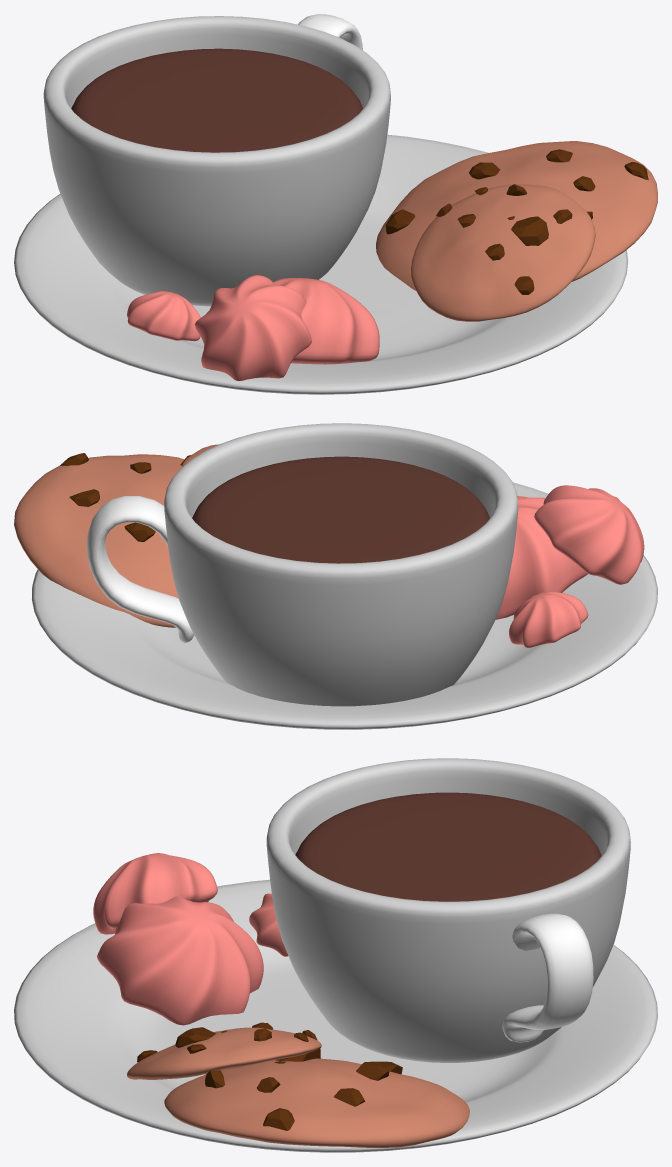
Rendered from coffe.glb.
3 views of the same model, one above another, from view 1: azimuth 30°, elevation 25°; view 2: azimuth 150°, elevation 25°; view 3: azimuth 270°, elevation 25° (orthographic). The views are drawn at different scales.
Parts seen in each view (by area): view 1: Circle, Circle.005, Circle.002, Circle.007, Circle.003, Circle.006, Circle.004, Circle.008, Circle.001, Cube.014; view 2: Circle, Circle.005, Circle.002, Circle.003, Circle.006, Circle.001, Circle.004, Circle.008; view 3: Circle, Circle.005, Circle.002, Circle.003, Circle.004, Circle.001, Circle.006, Circle.007, Circle.008.
Part boxes in pixels (left/top/right/bottom): Circle: left=43, top=16, right=390, bottom=306; Circle.005: left=14, top=134, right=628, bottom=394; Circle.002: left=71, top=48, right=362, bottom=152; Circle.007: left=411, top=184, right=595, bottom=321; Circle.003: left=376, top=141, right=657, bottom=290; Circle.006: left=194, top=275, right=311, bottom=380; Circle.004: left=273, top=278, right=379, bottom=364; Circle.008: left=127, top=291, right=200, bottom=341; Circle.001: left=298, top=14, right=362, bottom=50; Cube.014: left=511, top=216, right=548, bottom=245; Circle: left=164, top=423, right=518, bottom=706; Circle.005: left=32, top=482, right=657, bottom=729; Circle.002: left=192, top=456, right=489, bottom=563; Circle.003: left=14, top=454, right=184, bottom=627; Circle.006: left=534, top=485, right=644, bottom=584; Circle.001: left=86, top=496, right=194, bottom=642; Circle.004: left=495, top=496, right=587, bottom=619; Circle.008: left=509, top=592, right=588, bottom=647; Circle: left=266, top=758, right=630, bottom=1062; Circle.005: left=14, top=879, right=657, bottom=1152; Circle.002: left=295, top=792, right=601, bottom=901; Circle.003: left=164, top=1058, right=469, bottom=1147; Circle.004: left=97, top=896, right=263, bottom=1025; Circle.001: left=502, top=913, right=593, bottom=1042; Circle.006: left=93, top=853, right=217, bottom=934; Circle.007: left=127, top=1027, right=321, bottom=1079; Circle.008: left=249, top=893, right=288, bottom=956.
Size of the model in its own units: 5.01 by 1.58 by 4.62.
